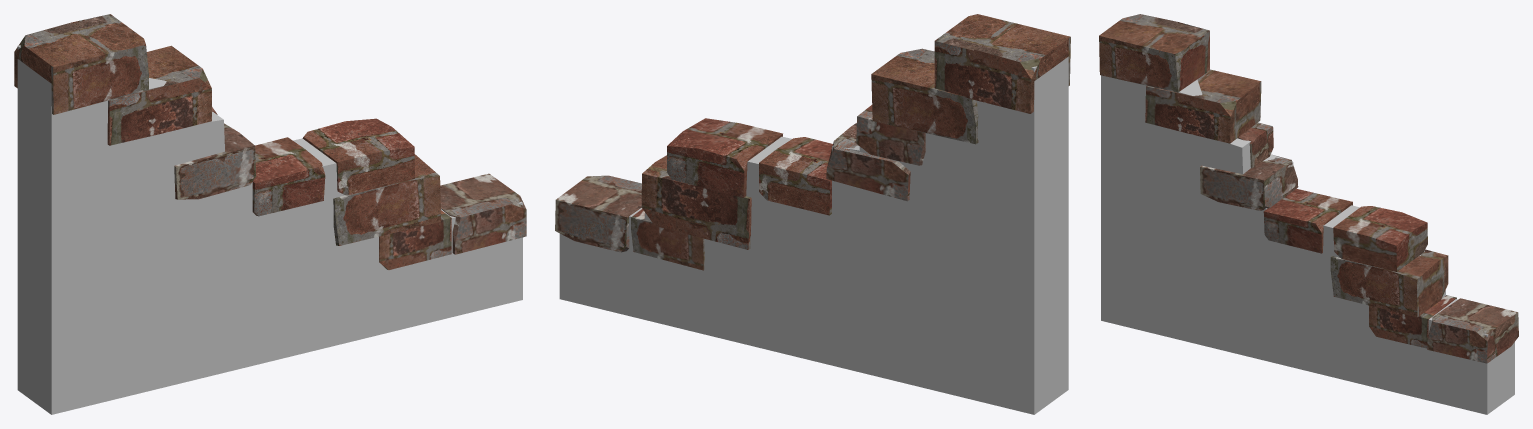
The model's file is SM_Wall_Ruined_30.fbx.
3 renders of one model, left to right at view 1: azimuth 30°, elevation 25°; view 2: azimuth 150°, elevation 25°; view 3: azimuth 330°, elevation 25°, orthographic. The views are drawn at different scales.
Visible parts, largest first — view 1: SM_Wall_Ruined_30_LOD0; view 2: SM_Wall_Ruined_30_LOD0; view 3: SM_Wall_Ruined_30_LOD0.
Part boxes in pixels (x1,y1,x2,y2): SM_Wall_Ruined_30_LOD0: (14,14,526,414); SM_Wall_Ruined_30_LOD0: (555,14,1070,414); SM_Wall_Ruined_30_LOD0: (1099,14,1518,414).
Size of what is drawn, in the model's own units: 402 by 285 by 59.75.
